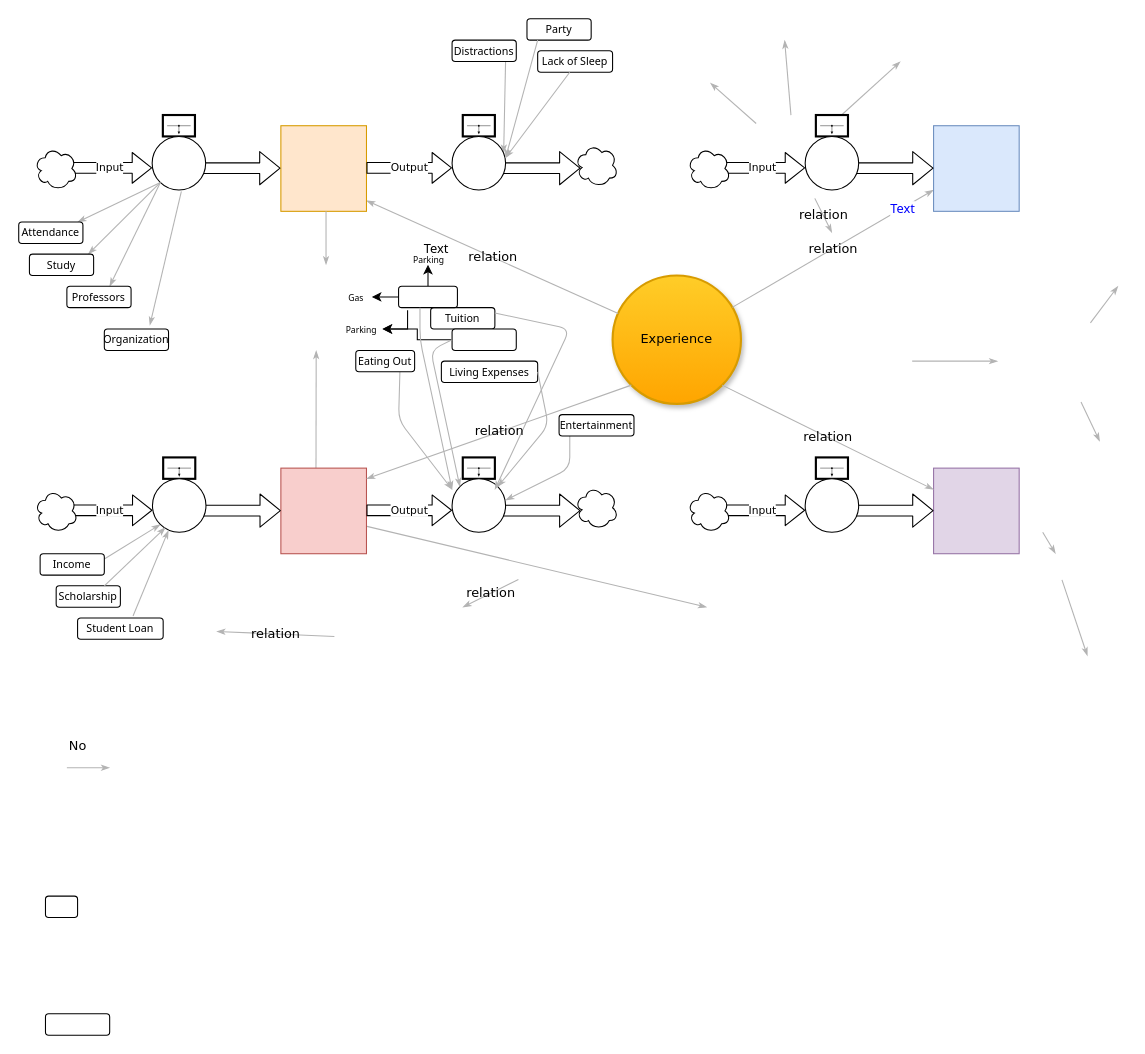
The diagram is 1145 pixels wide and 1054 high, and some of its shapes have lost their labels. Here are the shapes that lost their labels. From the top down, the centre of each, then its label:
(x=178, y=162): Gain
(x=323, y=168): Knowledge
(x=478, y=162): Decline
(x=427, y=296): Vehicle
(x=483, y=339): Textbooks
(x=178, y=505): Increase
(x=323, y=510): Finances
(x=478, y=505): Decrease
